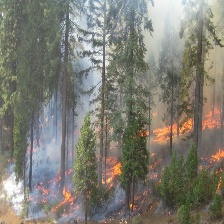fire: (146, 105, 221, 142), (28, 165, 76, 209), (99, 157, 127, 188), (202, 149, 224, 182)
smoke: (66, 1, 219, 89), (3, 160, 27, 212)
